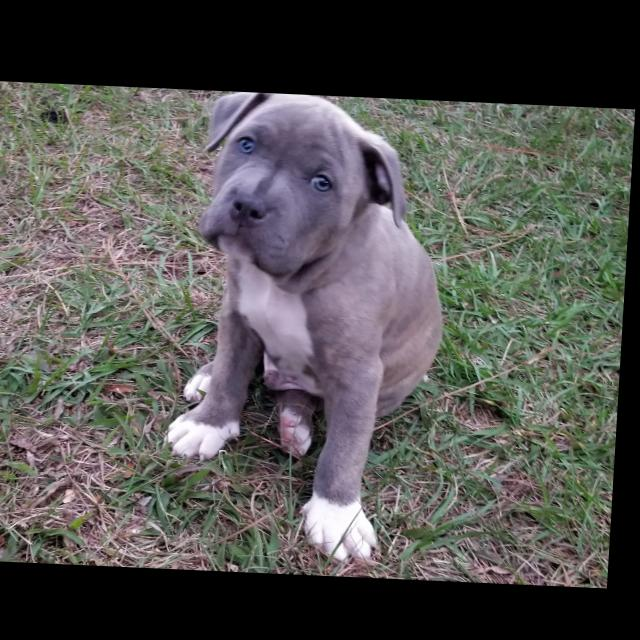am_pit_bull_terrier: (166, 88, 459, 563)
